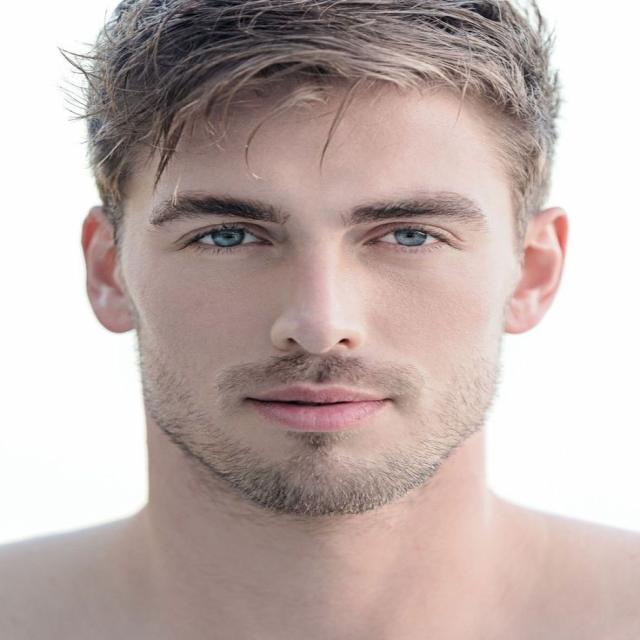earlobe: (100, 293, 136, 334), (503, 294, 535, 335)
eye: (192, 226, 269, 249), (368, 226, 445, 248)
nose: (270, 335, 369, 388)
wholeear: (502, 207, 569, 334), (79, 207, 136, 335)
